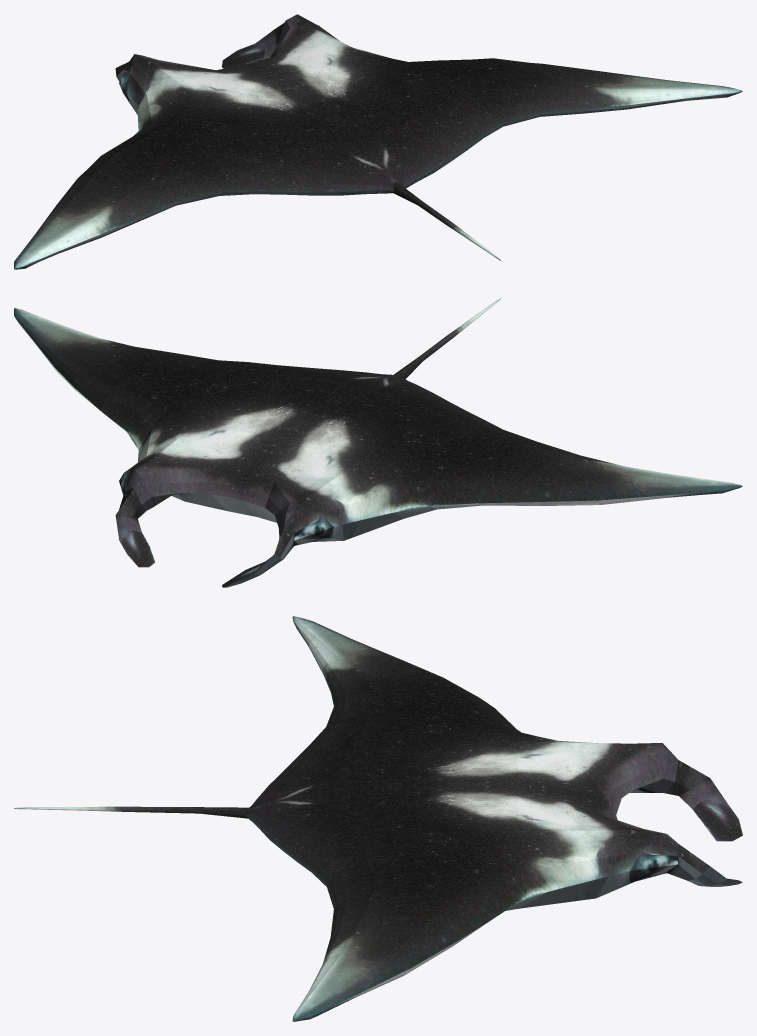
Rendered from mobula-birostris.glb.
3 views of the same model, one above another, from view 1: azimuth 30°, elevation 25°; view 2: azimuth 150°, elevation 25°; view 3: azimuth 270°, elevation 25° (orthographic). The views are drawn at different scales.
Visible parts, largest first — view 1: mobula_birostris; view 2: mobula_birostris; view 3: mobula_birostris.
Part boxes in pixels (x1,y1,x2,y2): mobula_birostris: (14,14,742,269); mobula_birostris: (14,298,742,587); mobula_birostris: (14,616,742,1021).
Bounding box in the file's own units: 7 × 0.6866 × 5.33.
4 materials, 4 textured.
